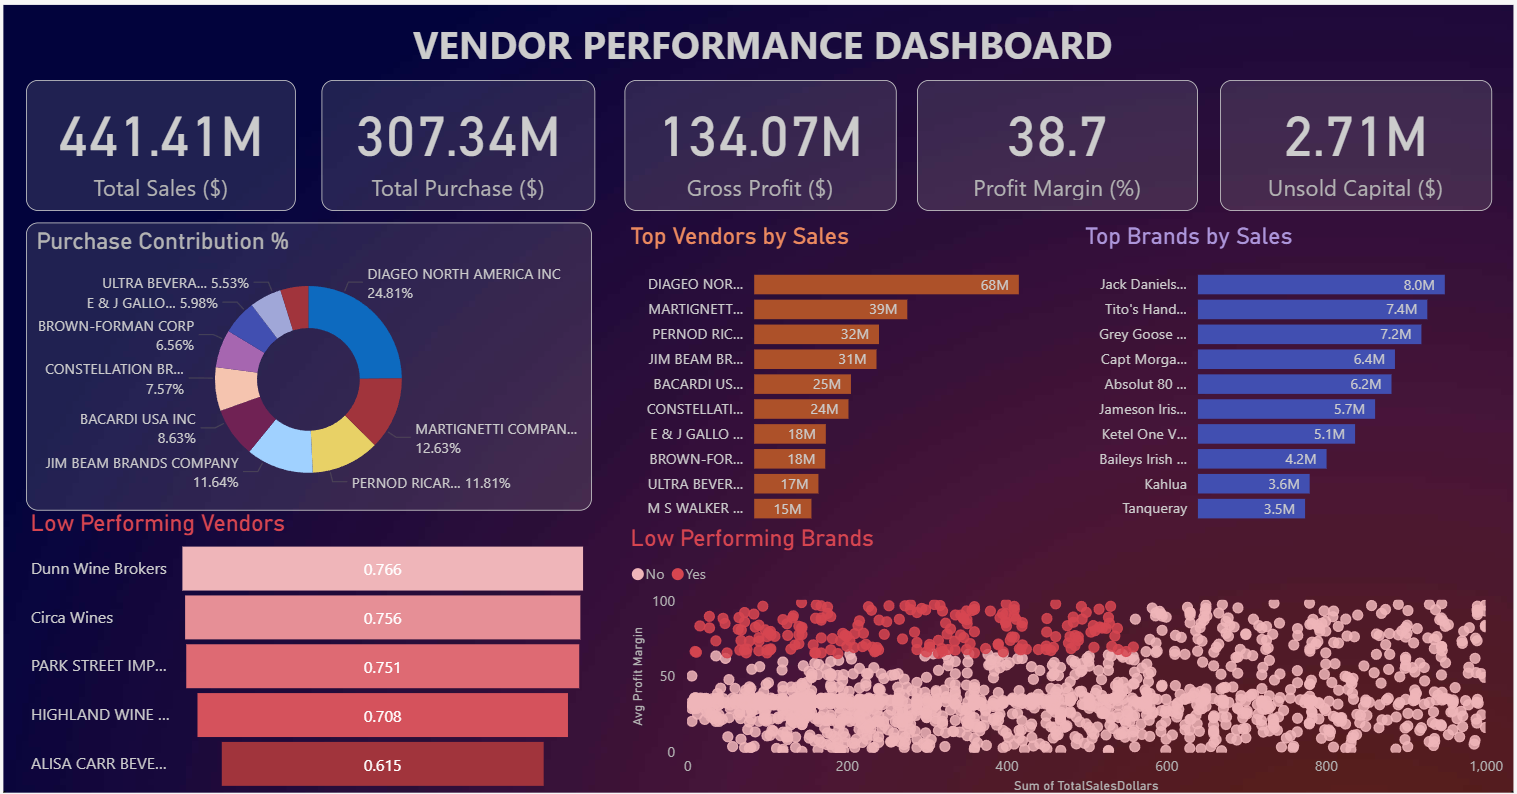

The dashboard page shown, as its layout file describes it:
{"tool":"powerbi","page":{"name":"Page 1","canvas":[1280,720],"ordinal":0},"visuals":[{"type":"image","box":[0,0,1279.5,719.2],"z":0},{"type":"card","fields":{"Values":["Sum(vendor_sales_summary.TotalSalesDollars)"]},"box":[27.3,92.4,225.6,109],"z":1000},{"type":"card","fields":{"Values":["Sum(vendor_sales_summary.TotalPurchaseDollars)"]},"box":[274.1,92.4,228.6,109],"z":2000},{"type":"card","fields":{"Values":["Sum(vendor_sales_summary.GrossProfit)"]},"box":[526.9,92.4,227.1,109],"z":3000},{"type":"card","fields":{"Values":["Avg(vendor_sales_summary.ProfitMargin)"]},"box":[772.2,92.4,234.7,109],"z":4000},{"type":"card","fields":{"Values":["Sum(vendor_sales_summary.UnsoldCapital)"]},"box":[1025.1,92.4,227.1,109],"z":5000},{"type":"textbox","box":[187.8,34.8,910,69.7],"z":6000},{"type":"donutChart","title":"Purchase Contribution %","fields":{"Category":["purchase_contribution.vendorname"],"Y":["Sum(purchase_contribution.PurchaseContribution%)"]},"box":[27.3,212,472.4,240.8],"z":7000},{"type":"clusteredBarChart","title":"Top Vendors by Sales","fields":{"Y":["Sum(vendor_sales_summary.TotalSalesDollars)"],"Category":["vendor_sales_summary.vendorname"]},"box":[526.9,212,380.1,260.4],"z":8000},{"type":"clusteredBarChart","title":"Top Brands by Sales","fields":{"Category":["vendor_sales_summary.Description"],"Y":["Sum(vendor_sales_summary.TotalSalesDollars)"]},"box":[907,212,345.2,260.4],"z":9000},{"type":"funnel","title":"Low Performing Vendors","fields":{"Category":["LowTurnoverVendor.vendorname"],"Y":["Sum(LowTurnoverVendor.AvgStockTurnover)"]},"box":[26.5,451.7,476.2,240],"z":10000},{"type":"scatterChart","title":"Low Performing Brands","fields":{"Category":["BrandPerformance.Description"],"X":["Sum(BrandPerformance.TotalSalesDollars)"],"Series":["BrandPerformance.TargetBrand"],"Y":["Sum(BrandPerformance.AvgProfitMargin)"]},"box":[527.2,463,738.9,228.7],"z":10001}]}

Visuals, with their boxes on the page's 1280x720 design canvas (x1, y1, x2, y2). These are canvas units, not pixel positions in the 1517x794 screenshot, which may show the page scaled, cropped or inside an application window:
image: region(0, 0, 1280, 719)
card - Sum(vendor_sales_summary.TotalSalesDollars): region(27, 92, 253, 201)
card - Sum(vendor_sales_summary.TotalPurchaseDollars): region(274, 92, 503, 201)
card - Sum(vendor_sales_summary.GrossProfit): region(527, 92, 754, 201)
card - Avg(vendor_sales_summary.ProfitMargin): region(772, 92, 1007, 201)
card - Sum(vendor_sales_summary.UnsoldCapital): region(1025, 92, 1252, 201)
textbox: region(188, 35, 1098, 104)
"Purchase Contribution %" donutChart: region(27, 212, 500, 453)
"Top Vendors by Sales" clusteredBarChart: region(527, 212, 907, 472)
"Top Brands by Sales" clusteredBarChart: region(907, 212, 1252, 472)
"Low Performing Vendors" funnel: region(26, 452, 503, 692)
"Low Performing Brands" scatterChart: region(527, 463, 1266, 692)
